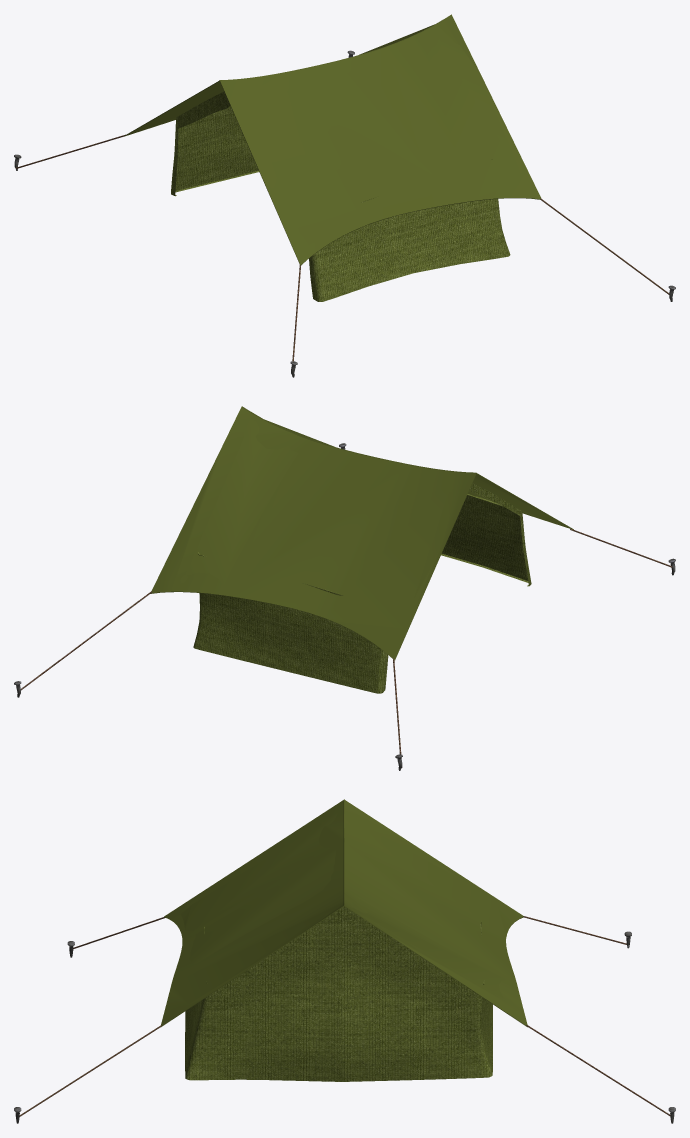
The model's file is Tente.FBX.
3 renders of one model, top to bottom at view 1: azimuth 30°, elevation 25°; view 2: azimuth 150°, elevation 25°; view 3: azimuth 270°, elevation 25°, orthographic.
Parts seen in each view (by area): view 1: Line02, Box01; view 2: Line02, Box01; view 3: Box01, Line02.
Part boxes in pixels (<box>): Line02: <box>123,14,541,265</box>; Box01: <box>171,91,510,301</box>; Line02: <box>150,406,573,660</box>; Box01: <box>193,483,531,693</box>; Box01: <box>185,906,492,1081</box>; Line02: <box>161,799,527,1027</box>.
Bounding box in the file's own units: 336 × 522 × 172.
Materials: 3 (3 with a texture image).
